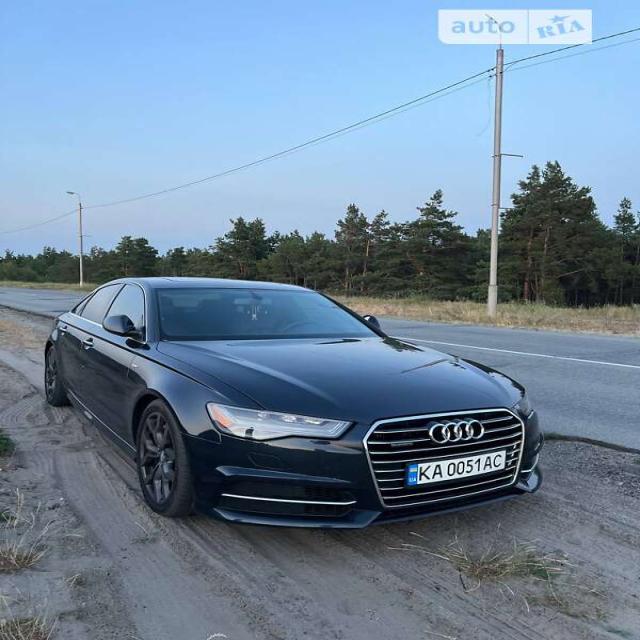plate: (406, 449, 516, 486)
